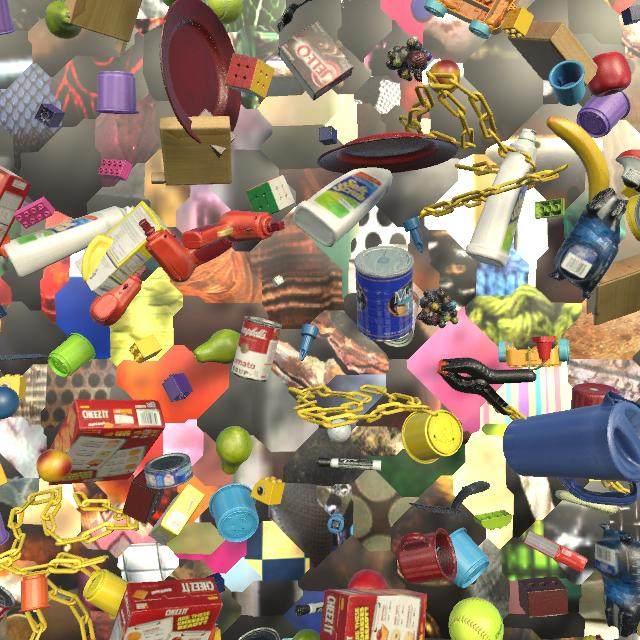ycb_002_master_chef_can: (354, 246, 414, 342), (238, 627, 281, 640)
ycb_003_cracker_box: (48, 399, 166, 486), (109, 577, 223, 640), (320, 588, 427, 640), (0, 165, 32, 247)
ycb_004_sugar_box: (75, 201, 172, 297), (148, 484, 205, 545)
ycb_005_tomato_soup_can: (231, 316, 282, 382), (384, 291, 420, 347), (0, 585, 15, 622)
ycb_006_mustard_bottle: (81, 234, 113, 287)
ycb_007_tuna_fish_can: (144, 453, 194, 489)
ycb_008_pudding_box: (278, 21, 353, 101)
ycb_009_gelatin_box: (524, 530, 587, 572)
ycb_011_banana: (546, 116, 610, 211)
ycb_013_apple: (587, 52, 632, 97), (348, 569, 388, 589)
ycb_015_peach: (36, 449, 73, 482), (429, 59, 461, 94)
ycb_016_pear: (215, 426, 252, 475), (193, 329, 240, 364), (45, 0, 82, 39), (292, 629, 320, 640)
